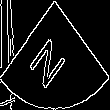N_NE: (32, 22, 78, 88)
